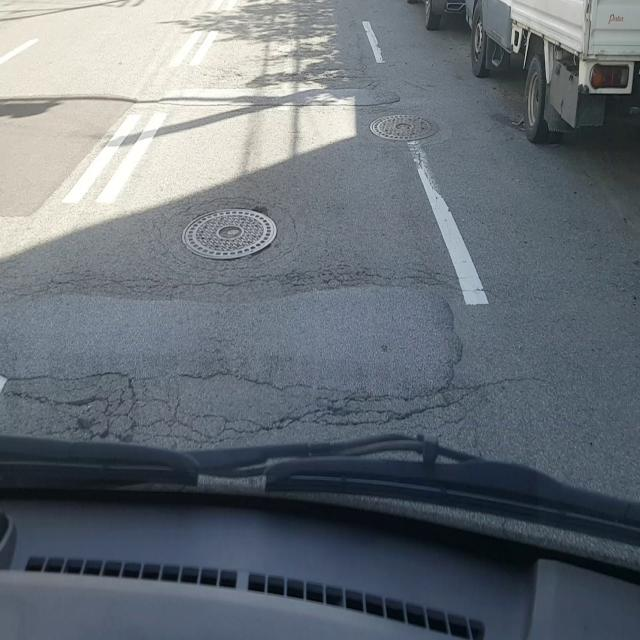Pothole: (180, 204, 279, 264)
